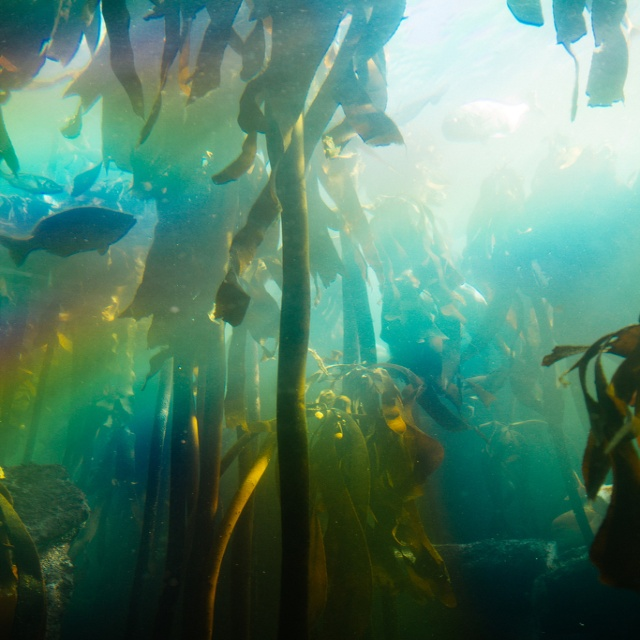Fish: (0, 206, 137, 269), (0, 170, 62, 195)
